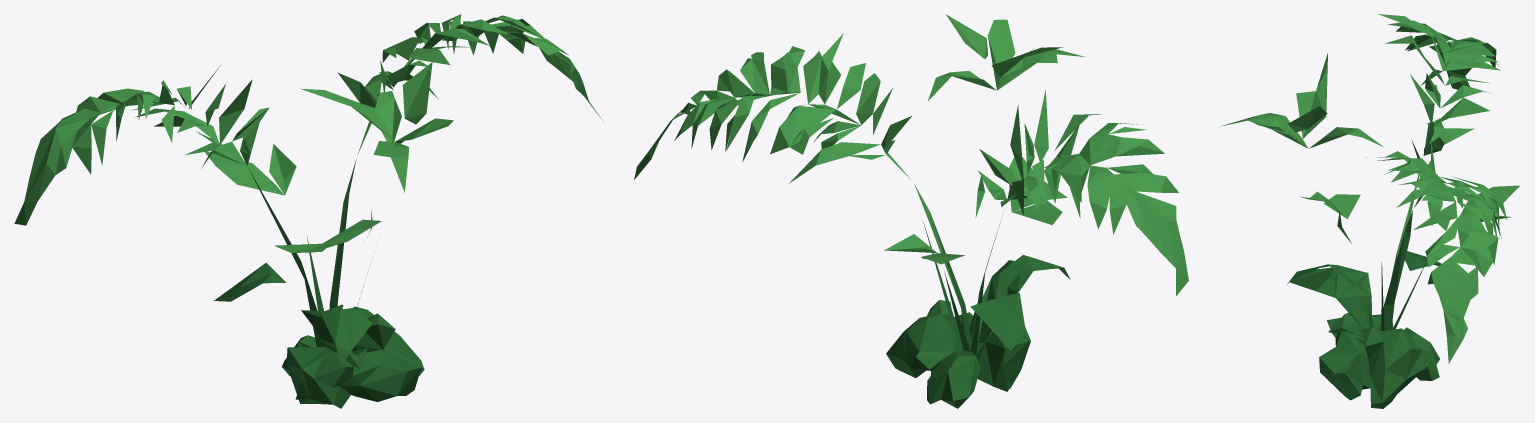
Rendered from fern-3.glb.
3 views of the same model, side by side, from view 1: azimuth 30°, elevation 25°; view 2: azimuth 150°, elevation 25°; view 3: azimuth 270°, elevation 25° (orthographic). The views are drawn at different scales.
Visible parts, largest first — view 1: output_unwrapped; view 2: output_unwrapped; view 3: output_unwrapped.
Part boxes in pixels (x1=…): output_unwrapped: x1=14, y1=14, x2=602, y2=408; output_unwrapped: x1=634, y1=14, x2=1188, y2=408; output_unwrapped: x1=1220, y1=14, x2=1519, y2=408.
Bounding box in the file's own units: 1.3 × 0.7408 × 0.6855.
